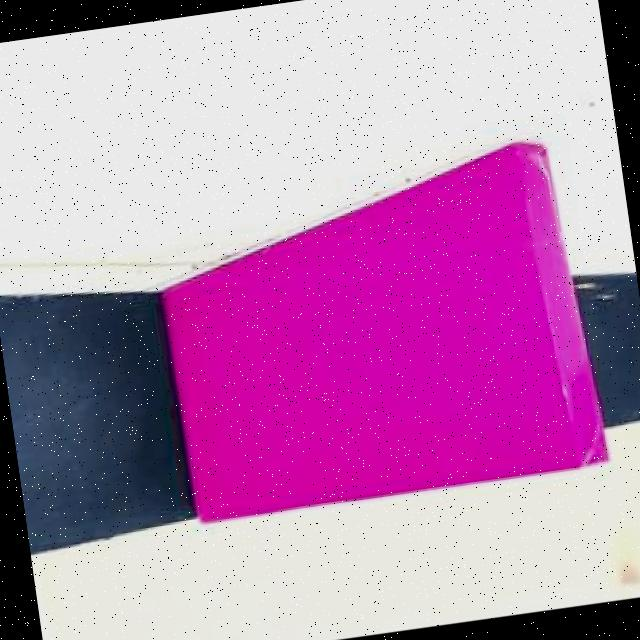xparking: (156, 185, 594, 512)
